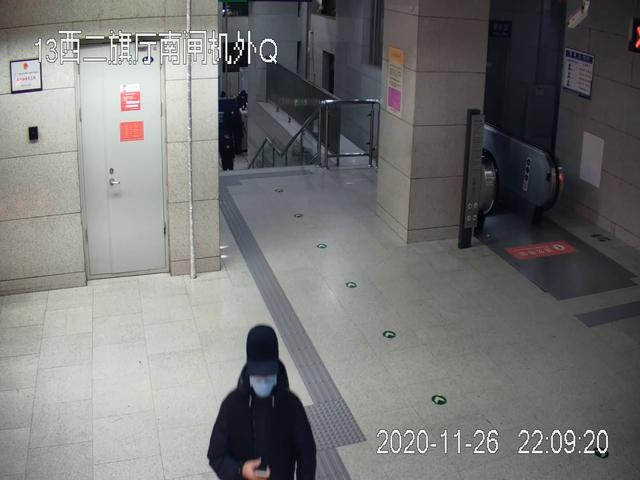person: (205, 325, 317, 480)
